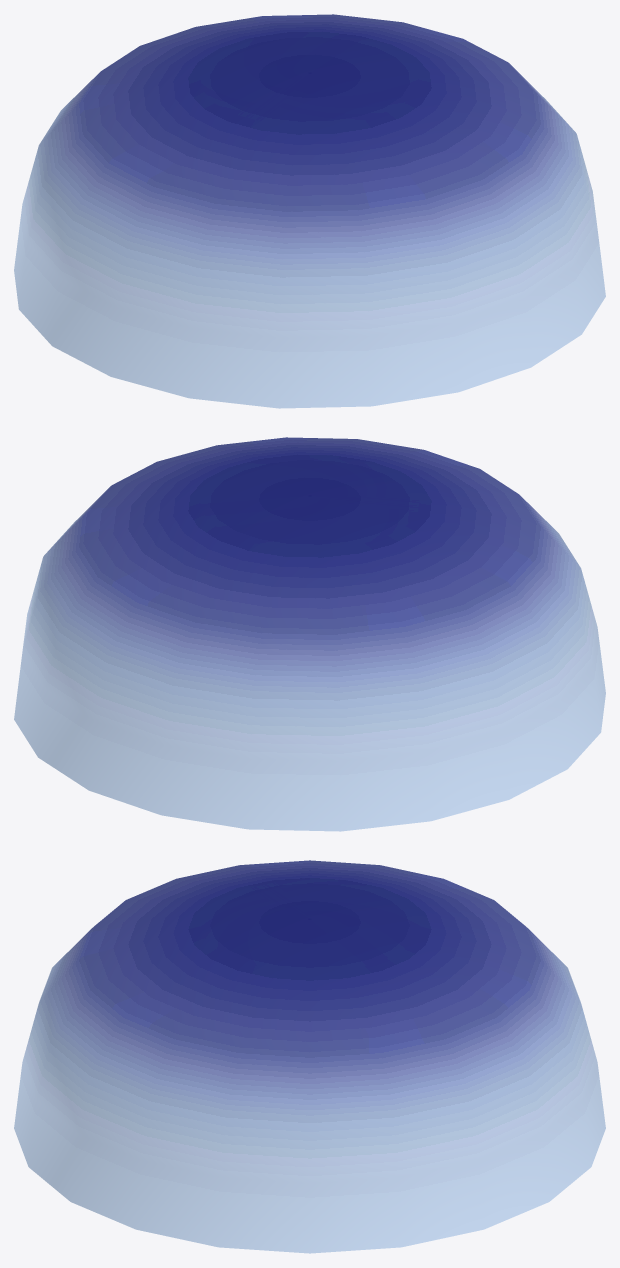
File: stage-cape-sky.glb
3 renders of one model, top to bottom at view 1: azimuth 30°, elevation 25°; view 2: azimuth 150°, elevation 25°; view 3: azimuth 270°, elevation 25°, orthographic.
Visible parts, largest first — view 1: sky; view 2: sky; view 3: sky.
Part boxes in pixels (bbox=[...]): sky: bbox=[14, 14, 605, 408]; sky: bbox=[14, 437, 605, 831]; sky: bbox=[14, 860, 605, 1253].
Size of the model in its own units: 3660 by 1428 by 3660.
Materials: 3 (3 with a texture image).
